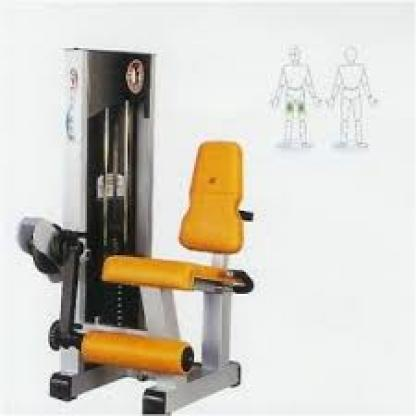leg extension: (12, 36, 264, 416)
